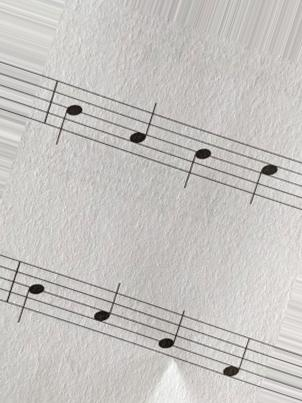note: (180, 115, 216, 197), (247, 136, 280, 217), (15, 251, 48, 330), (52, 73, 86, 149), (92, 278, 127, 349), (126, 95, 159, 170), (219, 323, 254, 393), (154, 300, 187, 370)
